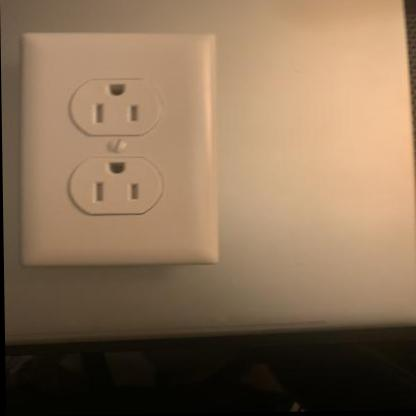OUTLET: (20, 31, 220, 266)
